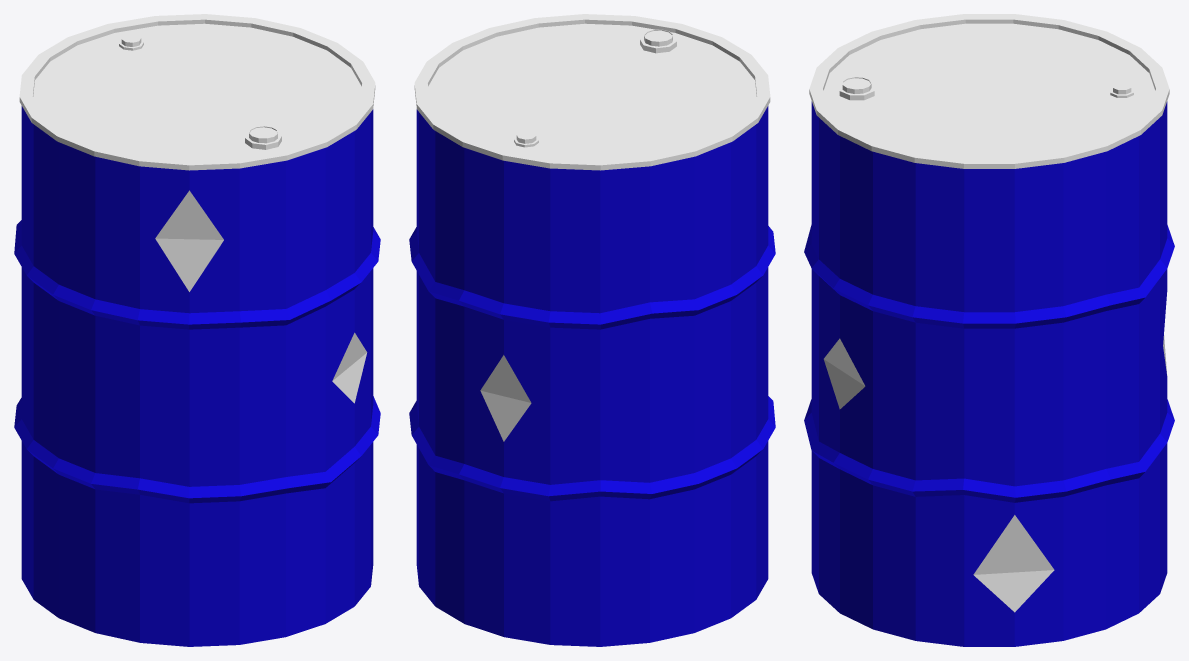
The model's file is SM_Barrel_Closed_01_B.glb.
The picture shows the model from 3 angles, left to right: view 1: azimuth 30°, elevation 25°; view 2: azimuth 150°, elevation 25°; view 3: azimuth 270°, elevation 25°; orthographic projection.
Parts seen in each view (by area): view 1: SM_Barrel_Closed_01_B; view 2: SM_Barrel_Closed_01_B; view 3: SM_Barrel_Closed_01_B.
Part boxes in pixels (x1,y1,x2,y2): SM_Barrel_Closed_01_B: (14, 14, 380, 646); SM_Barrel_Closed_01_B: (409, 14, 775, 646); SM_Barrel_Closed_01_B: (804, 14, 1174, 646).
Size of the model in its own units: 0.6081 by 0.9 by 0.6177.
